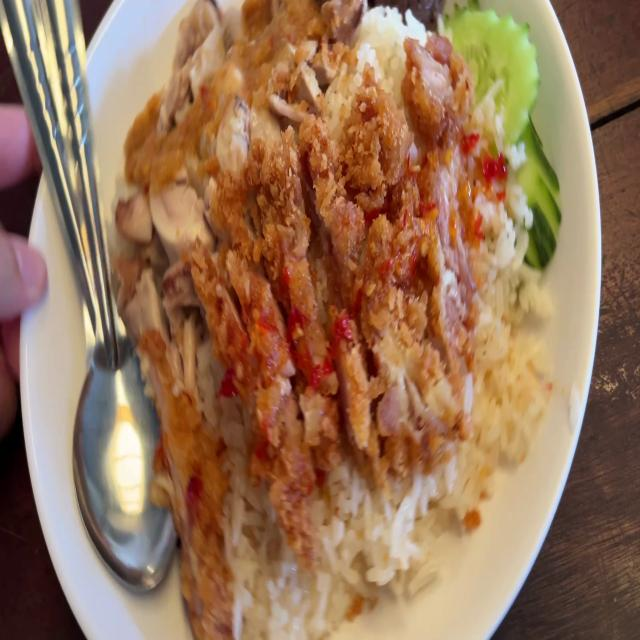chicken_rice: (112, 0, 365, 268)
noodle: (370, 0, 440, 33)
